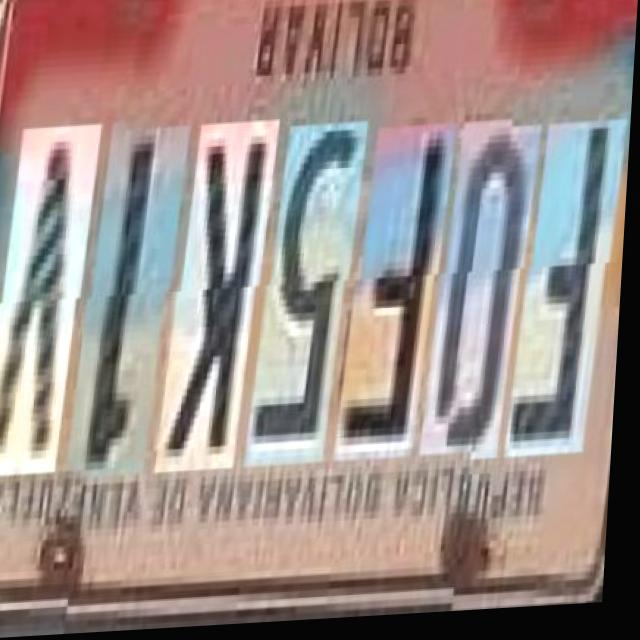0: (423, 124, 534, 461)
1: (68, 128, 182, 480)
5: (247, 126, 359, 471)
f: (337, 129, 448, 466), (508, 120, 619, 456)
k: (158, 124, 271, 475)
v: (0, 132, 92, 484)
